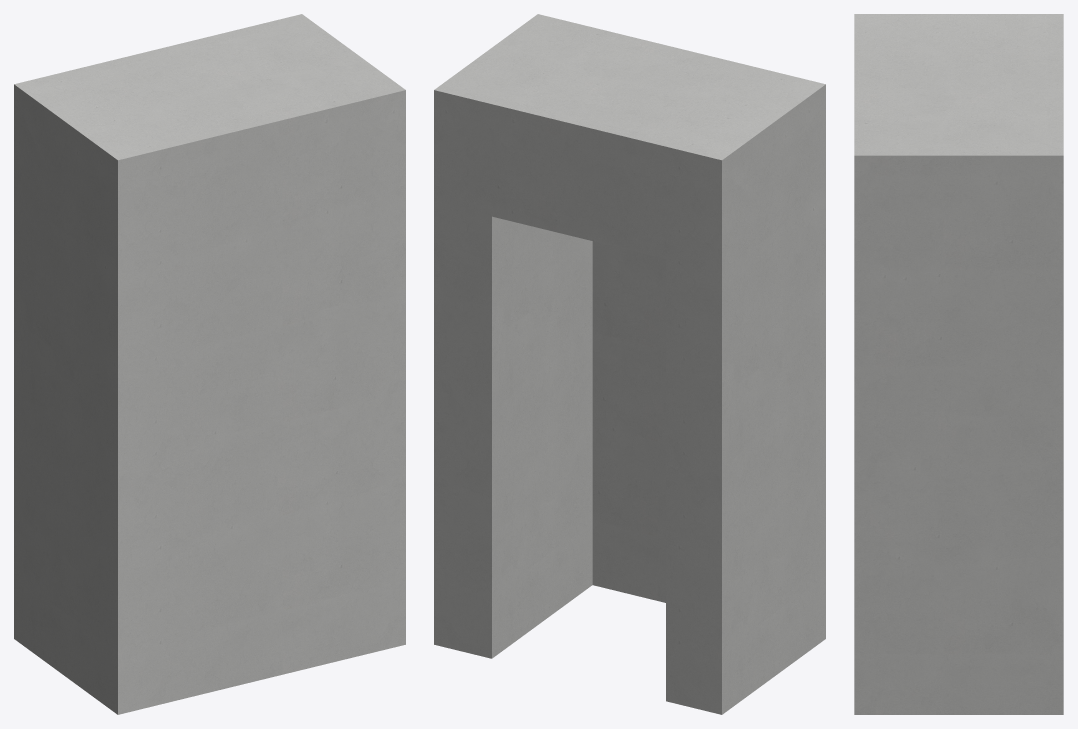
The model's file is Storge2.fbx.
The picture shows the model from 3 angles, left to right: view 1: azimuth 30°, elevation 25°; view 2: azimuth 150°, elevation 25°; view 3: azimuth 270°, elevation 25°; orthographic projection.
Visible parts, largest first — view 1: polySurface192; view 2: polySurface192; view 3: polySurface192.
Part boxes in pixels (left/top/right/bottom): polySurface192: left=14, top=14, right=405, bottom=714; polySurface192: left=434, top=14, right=825, bottom=714; polySurface192: left=854, top=14, right=1063, bottom=714.
Size of the model in its own units: 1.44 by 2.65 by 0.9.
1 material, 1 textured.
